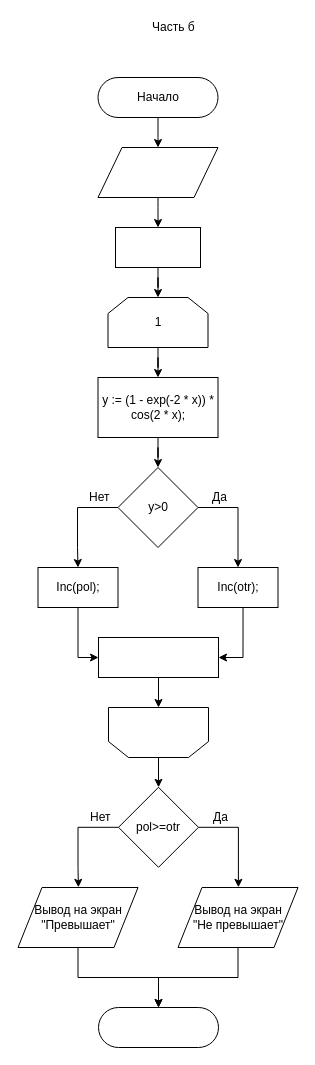
Image size: 315x1065. Some labels were removed from this diagram. The shapes that lost their labels are listed below. From the top down, each one's centre as x and y in pixels, then its label:
At pixel 157 172: "Ввод xn, xk и h".
At pixel 157 247: "x=xn".
At pixel 158 657: "x+=h;".
At pixel 158 732: "x>xk 1".
At pixel 158 1027: "Конец".
